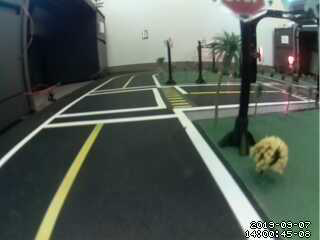Stop_Sign: (218, 1, 276, 24)
